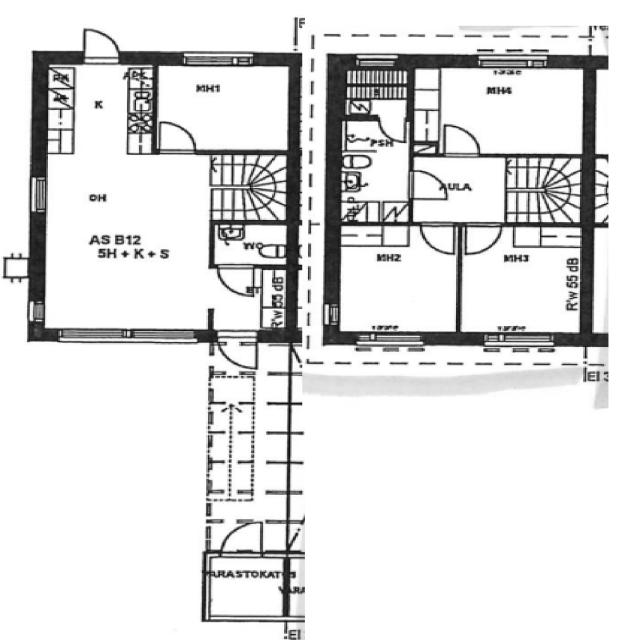door: (203, 531, 288, 620), (212, 519, 268, 558), (151, 116, 201, 156), (213, 330, 260, 372), (403, 167, 453, 205), (438, 120, 486, 158), (459, 220, 505, 258), (78, 26, 123, 64), (414, 219, 458, 257), (214, 262, 257, 298), (373, 114, 411, 146)
window: (60, 322, 194, 350), (348, 331, 430, 355), (477, 332, 560, 354), (472, 48, 551, 71), (177, 50, 258, 70), (24, 172, 50, 216), (319, 300, 344, 330), (23, 297, 46, 326), (354, 54, 400, 68)
zone: (36, 150, 230, 333), (204, 346, 294, 560), (415, 61, 590, 155), (332, 222, 460, 337), (458, 223, 586, 334), (152, 60, 292, 153), (40, 60, 156, 158), (334, 116, 411, 223), (203, 551, 290, 621), (218, 266, 292, 337), (210, 222, 292, 267), (352, 54, 398, 68)
